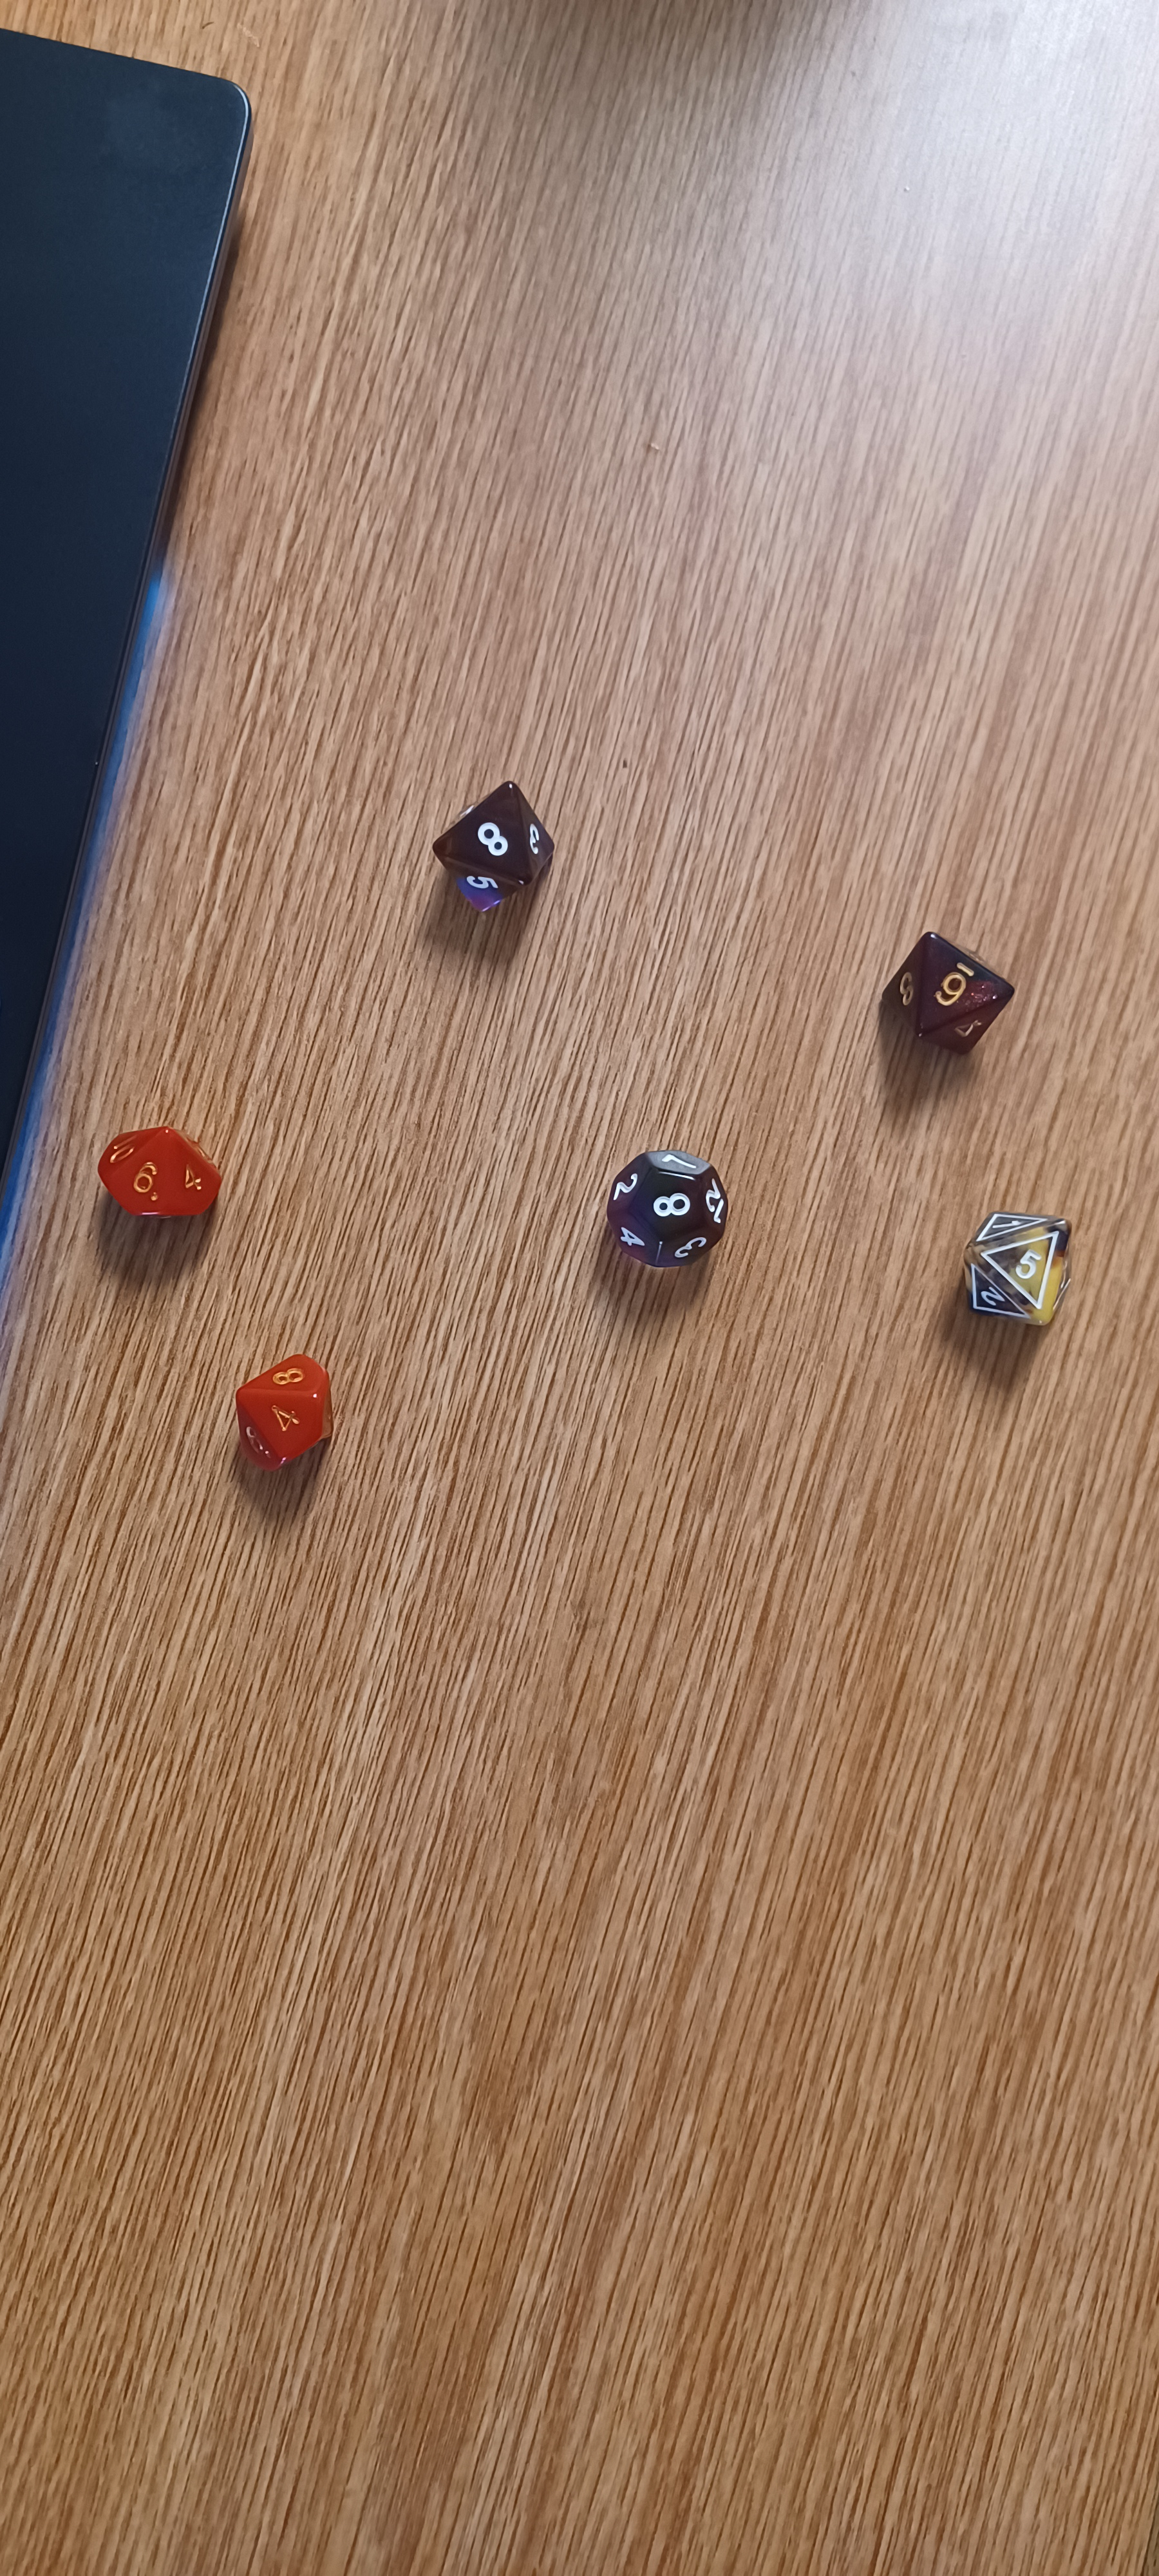eight: (573, 1132, 758, 1303), (404, 756, 586, 927)
five: (929, 1178, 1102, 1352)
four: (218, 1337, 361, 1485)
six: (854, 904, 1042, 1086), (82, 1114, 230, 1237)
